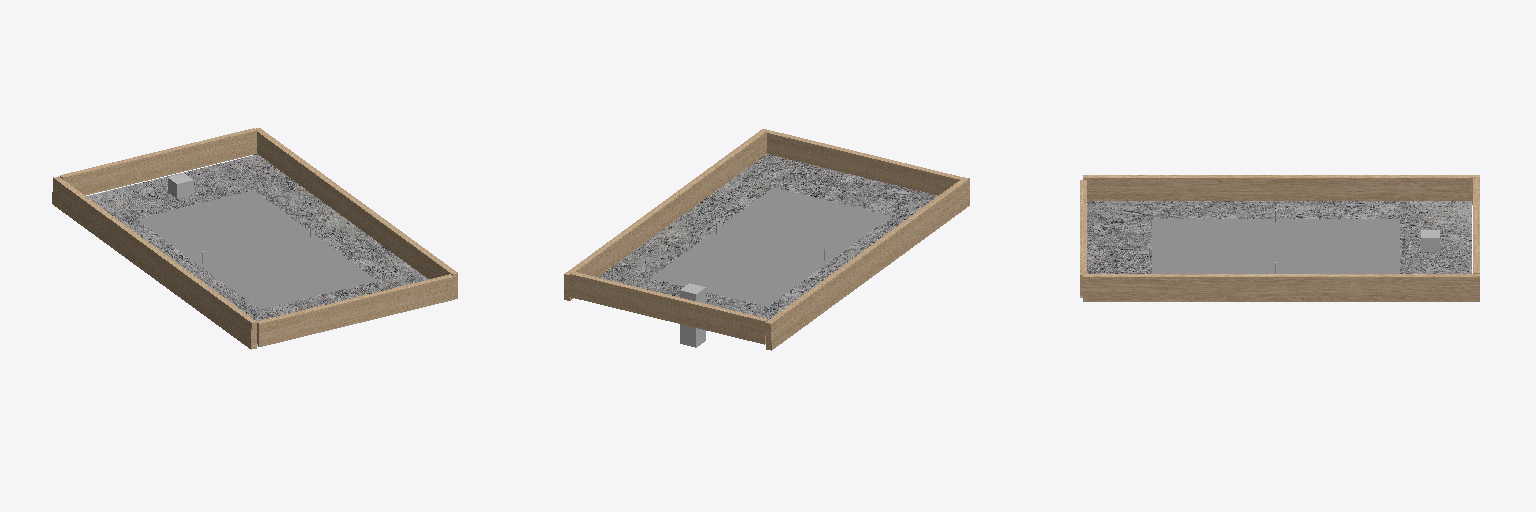
3 renders of one model, left to right at view 1: azimuth 30°, elevation 25°; view 2: azimuth 150°, elevation 25°; view 3: azimuth 270°, elevation 25°, orthographic.
Visible parts, largest first — view 1: Plane_Plane.001, Plane.002_Plane.004, Cube.001_Cube.003, Cube_Cube.002, Cube.003_Cube.005, Cube.002_Cube.004, Cube.008; view 2: Plane_Plane.001, Plane.002_Plane.004, Cube.001_Cube.003, Cube_Cube.002, Cube.002_Cube.004, Cube.003_Cube.005, Cube.008; view 3: Plane.002_Plane.004, Plane_Plane.001, Cube_Cube.002, Cube.001_Cube.003, Cube.003_Cube.005, Cube.002_Cube.004.
Part boxes in pixels (x1,y1,x2,y2): Plane_Plane.001: (137, 190, 376, 309); Plane.002_Plane.004: (86, 154, 455, 345); Cube.001_Cube.003: (52, 176, 256, 349); Cube_Cube.002: (254, 128, 457, 299); Cube.003_Cube.005: (257, 274, 453, 346); Cube.002_Cube.004: (60, 128, 257, 195); Cube.008: (168, 173, 193, 198); Plane_Plane.001: (651, 188, 890, 306); Plane.002_Plane.004: (598, 154, 937, 319); Cube.001_Cube.003: (765, 177, 969, 350); Cube_Cube.002: (564, 129, 768, 300); Cube.002_Cube.004: (570, 272, 767, 344); Cube.003_Cube.005: (767, 130, 963, 195); Cube.008: (680, 283, 705, 347); Plane.002_Plane.004: (1080, 201, 1471, 297); Plane_Plane.001: (1152, 219, 1399, 273); Cube_Cube.002: (1083, 274, 1479, 301); Cube.001_Cube.003: (1083, 175, 1479, 204); Cube.003_Cube.005: (1080, 180, 1086, 295); Cube.002_Cube.004: (1473, 178, 1479, 273).
Bounding box in the file's own units: 24.99 × 7.17 × 41.76.
5 materials, 2 textured.